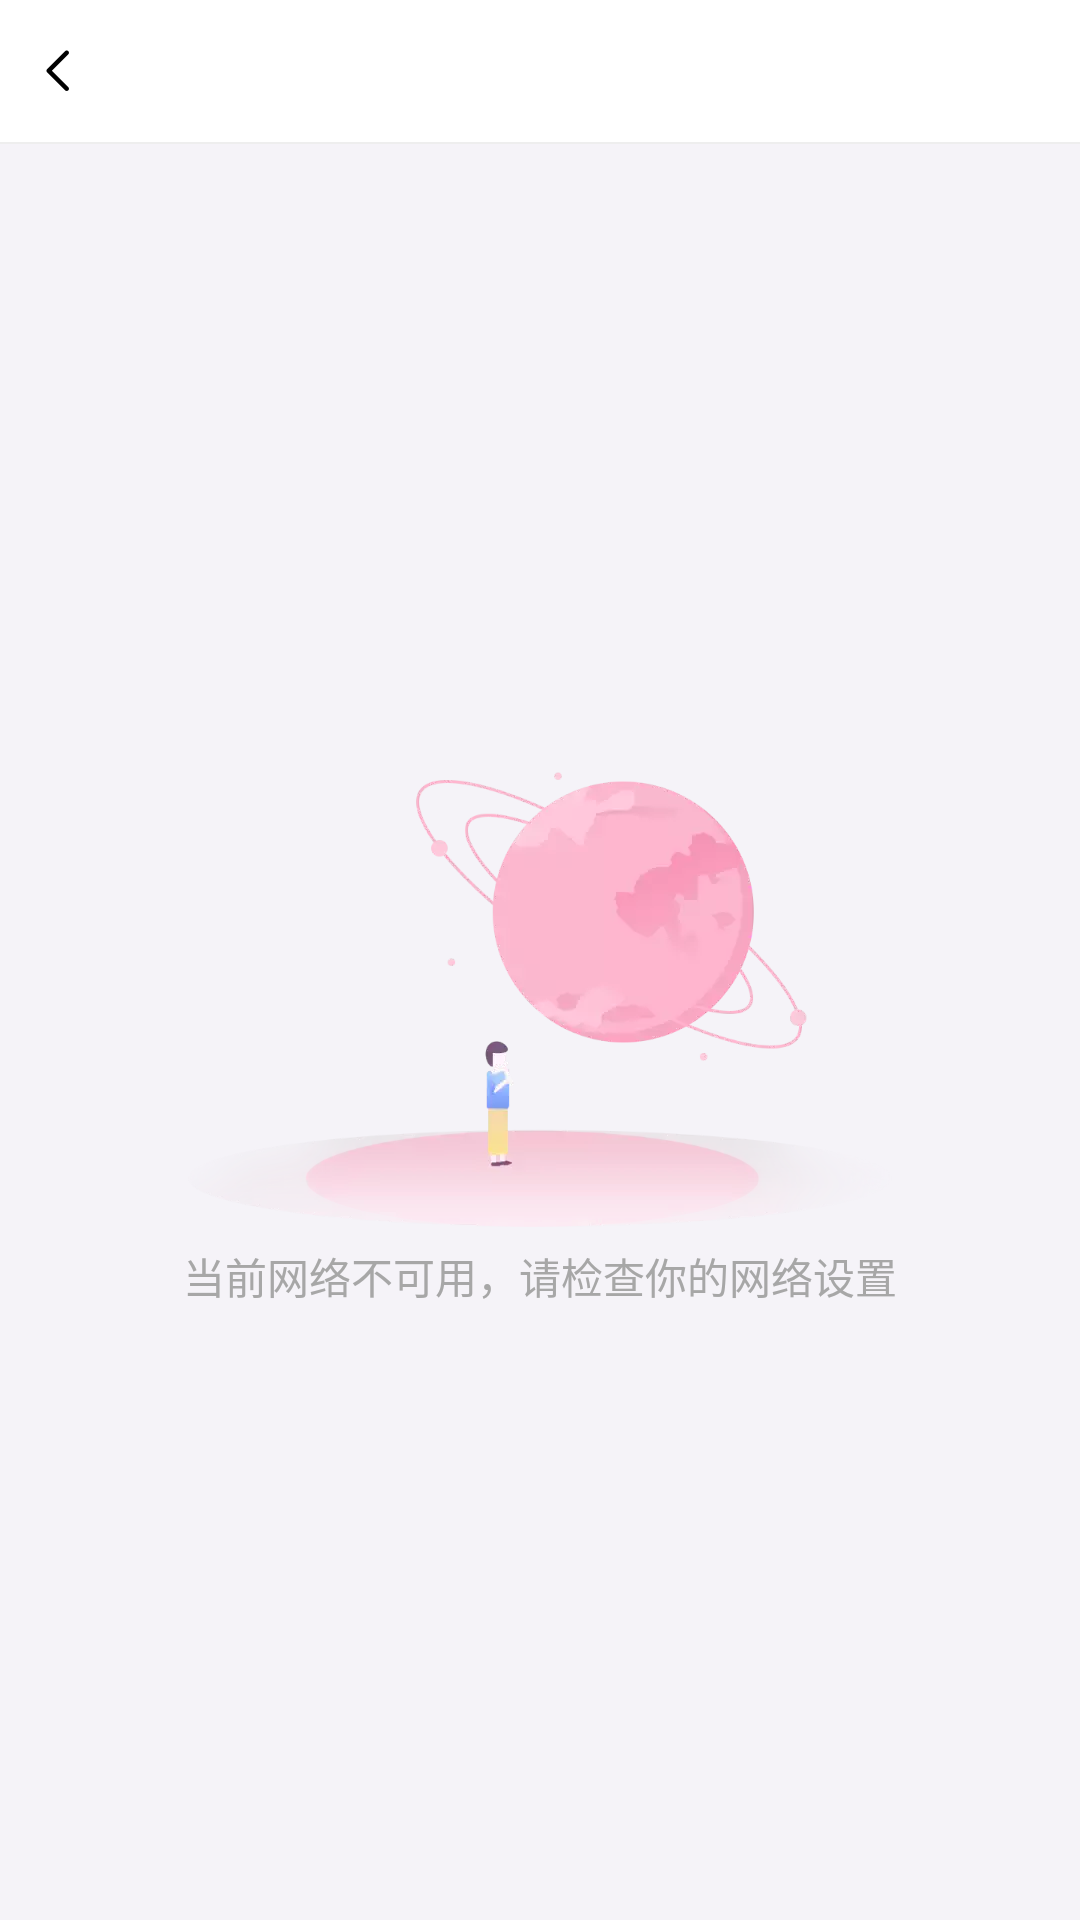

Locate icon controls on the screen. Image size 1080×1920, boxes as detection(x1, y1, x2, y2).
topbar back: detection(46, 50, 69, 91)
